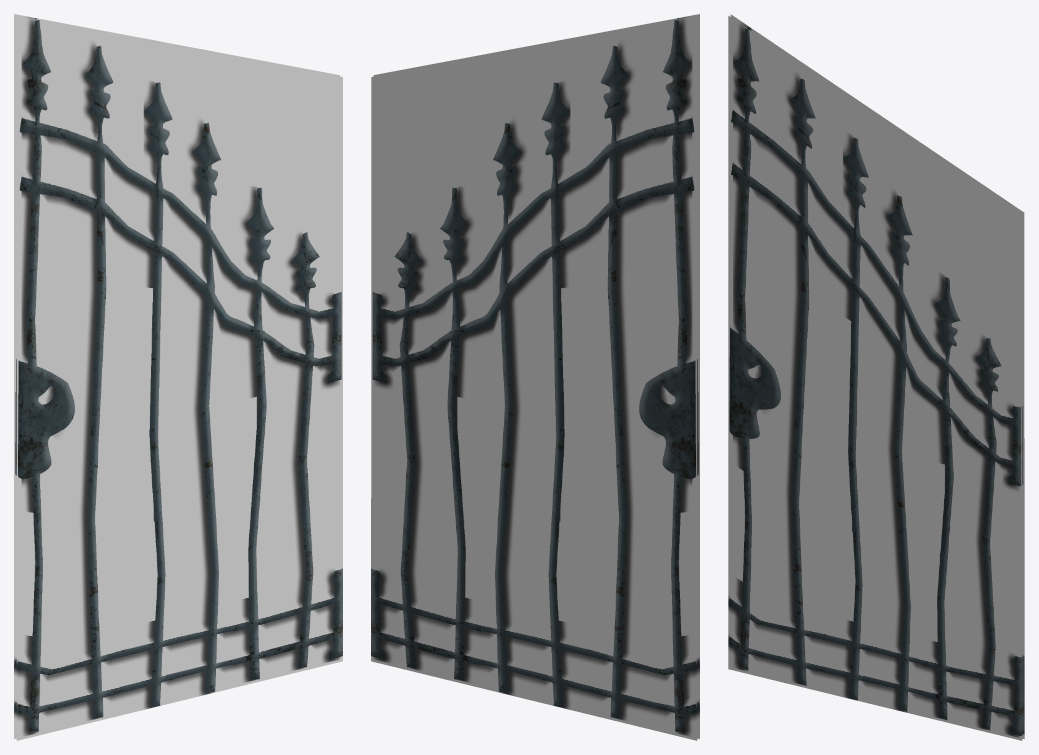
3 renders of one model, left to right at view 1: azimuth 30°, elevation 25°; view 2: azimuth 150°, elevation 25°; view 3: azimuth 330°, elevation 25°, orthographic. The views are drawn at different scales.
Parts seen in each view (by area): view 1: Grid_Entree; view 2: Grid_Entree; view 3: Grid_Entree.
Part boxes in pixels (x1,y1,x2,y2): Grid_Entree: (14,14,342,740); Grid_Entree: (371,14,699,740); Grid_Entree: (728,14,1024,740).
Bounding box in the file's own units: 34.08 × 72.36 × 0.4457.
